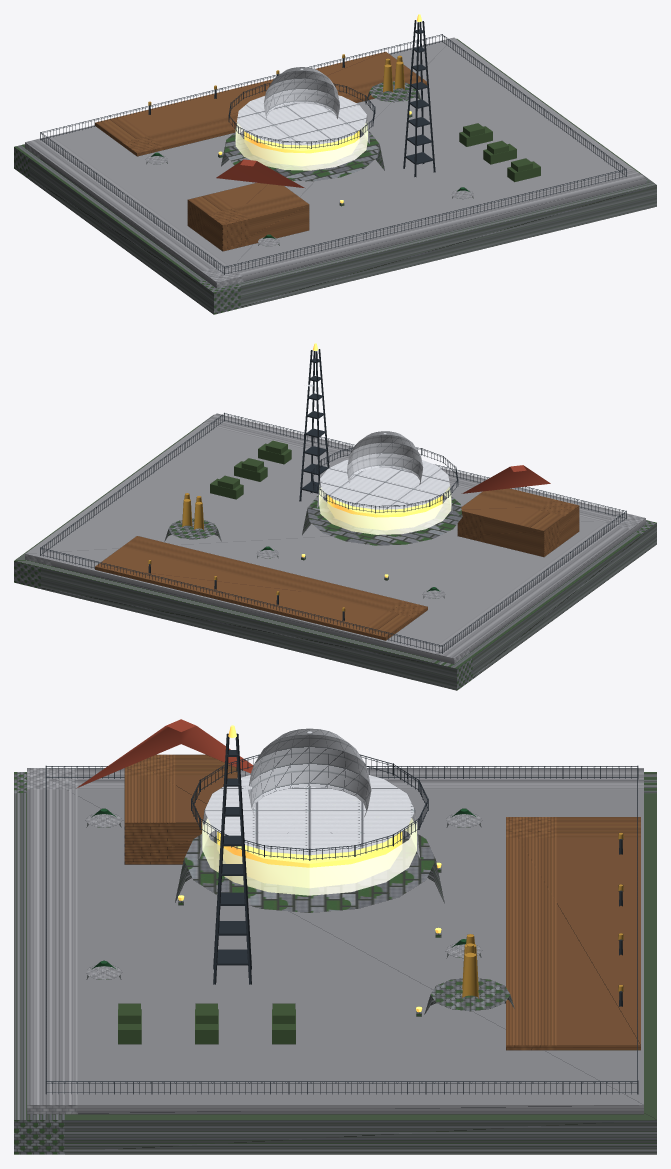
File: ultra_lm_20_dinh_langbiang.glb
3 renders of one model, top to bottom at view 1: azimuth 30°, elevation 25°; view 2: azimuth 150°, elevation 25°; view 3: azimuth 270°, elevation 25°, orthographic. The views are drawn at different scales.
Parts seen in each view (by area): view 1: Summit_Granite_Plaza, FoundationSkirt_Minus3m, CloudHunting_Timber_Deck, AntennaMast_And_Perimeter_Railings, Radar_Observatory_And_Radome, Observatory_Glass_Ring, Langbiang_Summit_Jeeps, KHo_Rong_Pavilion_Roofs, Summit_Beacon_And_NightLights, KLang_HBiang_Statue_And_Letters; view 2: Summit_Granite_Plaza, FoundationSkirt_Minus3m, CloudHunting_Timber_Deck, AntennaMast_And_Perimeter_Railings, Radar_Observatory_And_Radome, Observatory_Glass_Ring, Langbiang_Summit_Jeeps, KHo_Rong_Pavilion_Roofs, Summit_Beacon_And_NightLights, KLang_HBiang_Statue_And_Letters; view 3: Summit_Granite_Plaza, FoundationSkirt_Minus3m, CloudHunting_Timber_Deck, Radar_Observatory_And_Radome, AntennaMast_And_Perimeter_Railings, Observatory_Glass_Ring, Langbiang_Summit_Jeeps, KHo_Rong_Pavilion_Roofs, Summit_Beacon_And_NightLights, KLang_HBiang_Statue_And_Letters.
Boxes of the visible parts, bbox=[...] form: Summit_Granite_Plaza: bbox=[25, 37, 645, 288]; FoundationSkirt_Minus3m: bbox=[14, 38, 656, 314]; CloudHunting_Timber_Deck: bbox=[95, 51, 427, 251]; AntennaMast_And_Perimeter_Railings: bbox=[40, 20, 626, 274]; Radar_Observatory_And_Radome: bbox=[234, 48, 412, 149]; Observatory_Glass_Ring: bbox=[235, 121, 367, 170]; Langbiang_Summit_Jeeps: bbox=[459, 123, 540, 181]; KHo_Rong_Pavilion_Roofs: bbox=[216, 159, 304, 187]; Summit_Beacon_And_NightLights: bbox=[218, 14, 421, 203]; KLang_HBiang_Statue_And_Letters: bbox=[148, 54, 404, 105]; Summit_Granite_Plaza: bbox=[25, 413, 645, 664]; FoundationSkirt_Minus3m: bbox=[14, 414, 656, 690]; CloudHunting_Timber_Deck: bbox=[95, 488, 579, 640]; AntennaMast_And_Perimeter_Railings: bbox=[40, 349, 626, 653]; Radar_Observatory_And_Radome: bbox=[308, 384, 452, 513]; Observatory_Glass_Ring: bbox=[319, 485, 451, 534]; Langbiang_Summit_Jeeps: bbox=[210, 440, 291, 499]; KHo_Rong_Pavilion_Roofs: bbox=[462, 465, 550, 493]; Summit_Beacon_And_NightLights: bbox=[301, 343, 442, 577]; KLang_HBiang_Statue_And_Letters: bbox=[148, 493, 345, 611]; Summit_Granite_Plaza: bbox=[27, 768, 643, 1114]; FoundationSkirt_Minus3m: bbox=[14, 772, 656, 1154]; CloudHunting_Timber_Deck: bbox=[124, 754, 640, 1050]; Radar_Observatory_And_Radome: bbox=[199, 728, 420, 858]; AntennaMast_And_Perimeter_Railings: bbox=[45, 733, 638, 1094]; Observatory_Glass_Ring: bbox=[202, 818, 416, 895]; Langbiang_Summit_Jeeps: bbox=[118, 1003, 295, 1044]; KHo_Rong_Pavilion_Roofs: bbox=[76, 719, 253, 788]; Summit_Beacon_And_NightLights: bbox=[178, 725, 441, 1012]; KLang_HBiang_Statue_And_Letters: bbox=[462, 832, 623, 998].
Size of the model in its own units: 64 by 25.35 by 50.
Materials: 11 (4 with a texture image).
